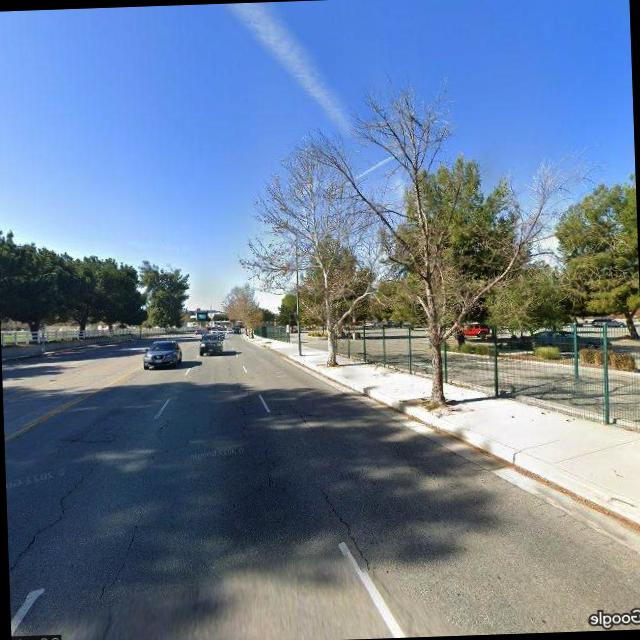pothole: (6, 458, 103, 607), (91, 503, 149, 609), (320, 485, 374, 574), (258, 438, 283, 492), (298, 406, 320, 433)
